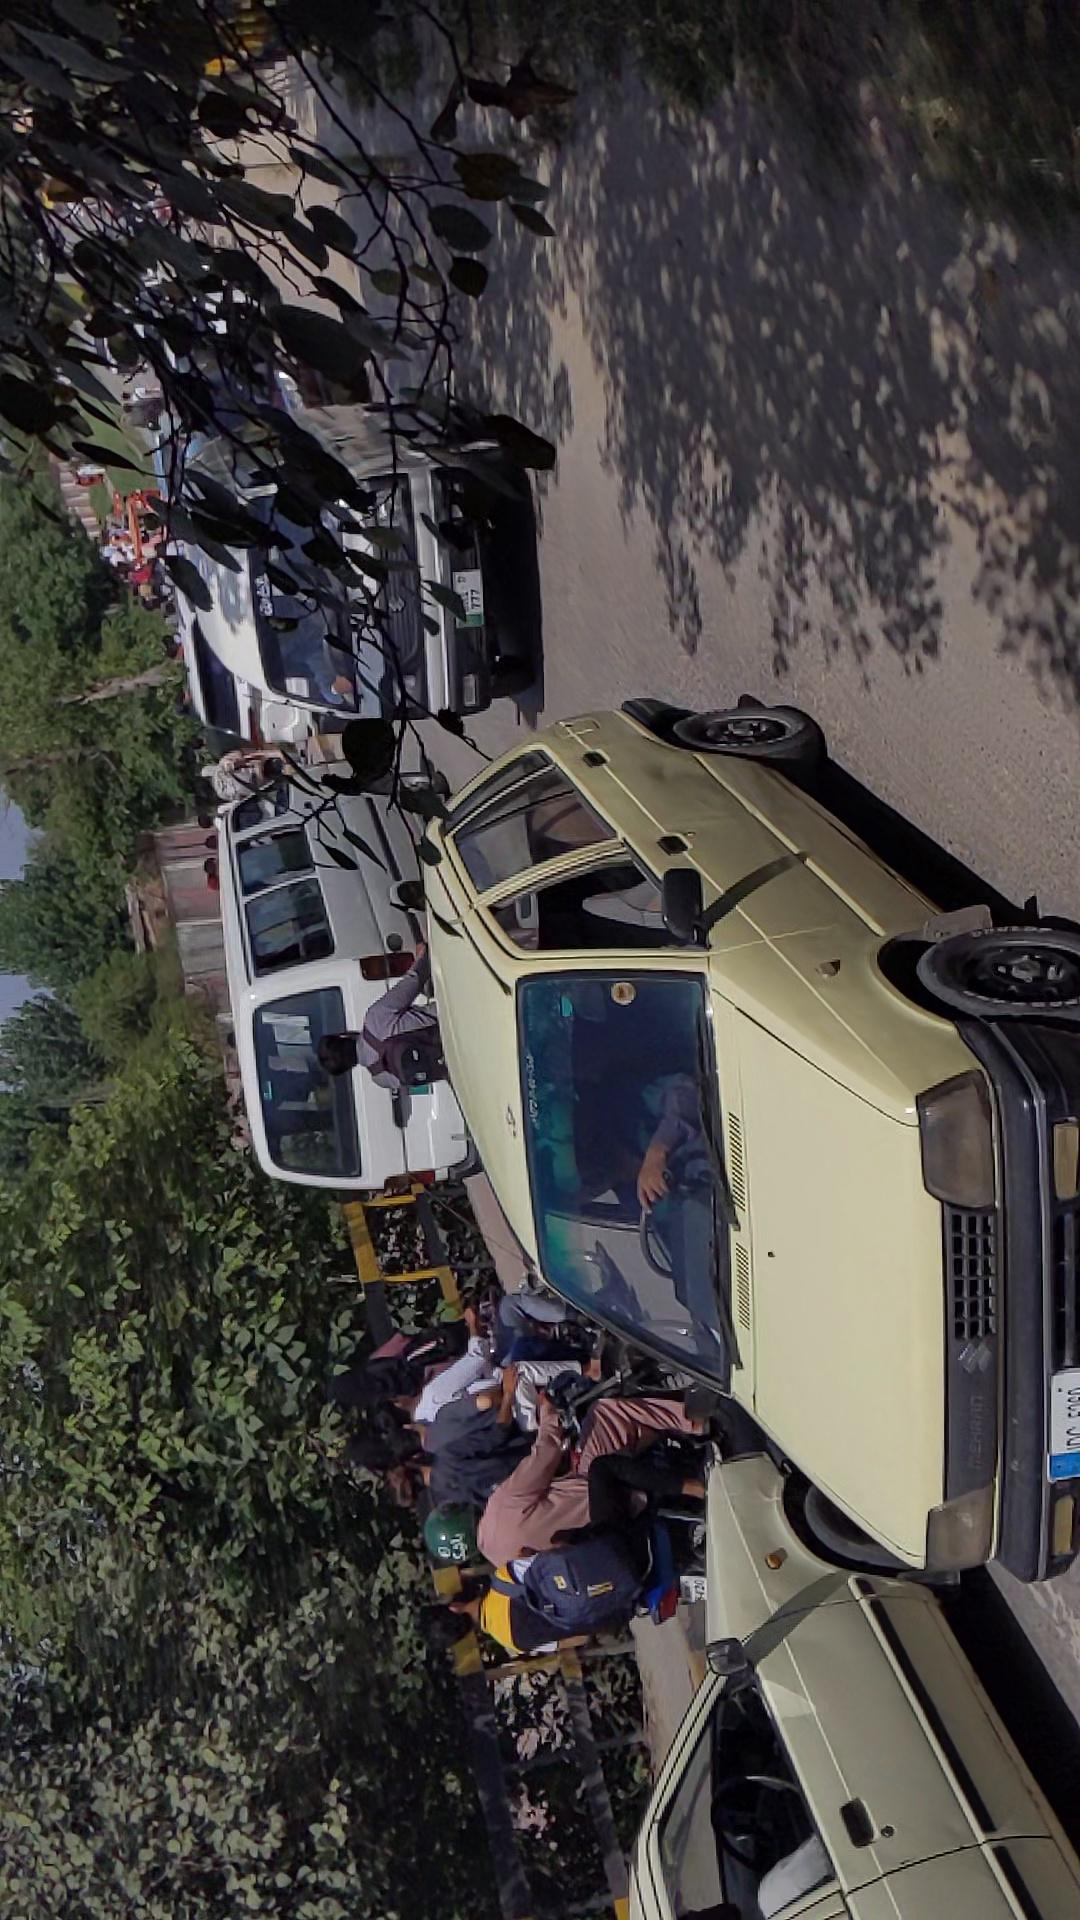windshield: (295, 919, 533, 1309)
